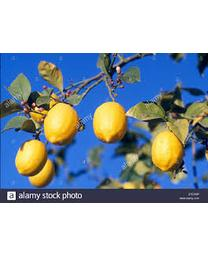lemon: (93, 102, 129, 145), (44, 103, 80, 146), (152, 132, 185, 171), (16, 139, 47, 175), (29, 161, 53, 185)
